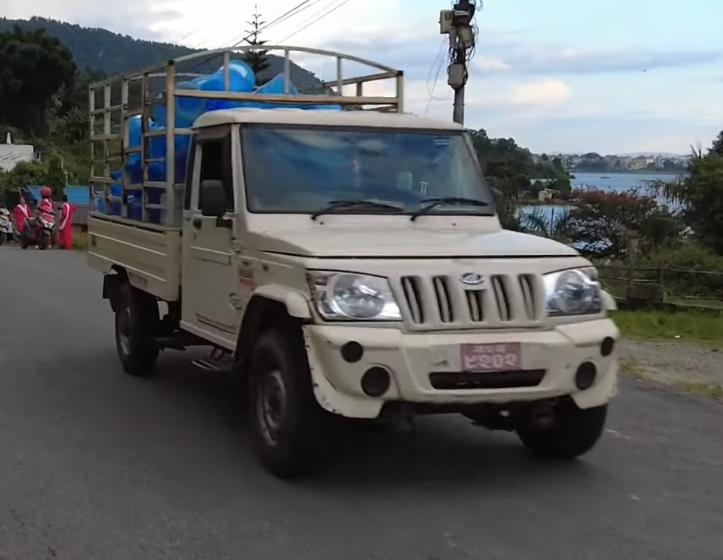scooter: (8, 198, 72, 258)
transport_vehicle: (73, 30, 631, 488)
